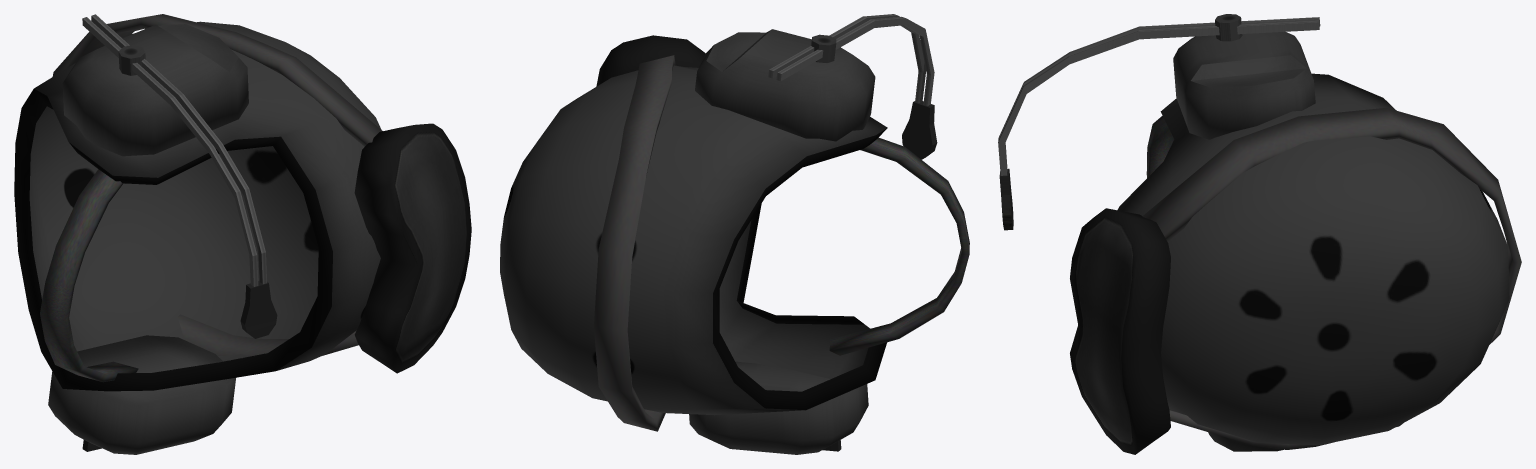
The model's file is BumpHelmet3.fbx.
3 views of the same model, side by side, from view 1: azimuth 30°, elevation 25°; view 2: azimuth 150°, elevation 25°; view 3: azimuth 270°, elevation 25° (orthographic). The views are drawn at different scales.
Parts seen in each view (by area): view 1: Cube.002; view 2: Cube.002; view 3: Cube.002.
Part boxes in pixels (x1,y1,x2,y2): Cube.002: (14,14,471,454); Cube.002: (500,14,969,454); Cube.002: (998,14,1521,454).
Bounding box in the file's own units: 0.1888 × 0.1801 × 0.2139.
